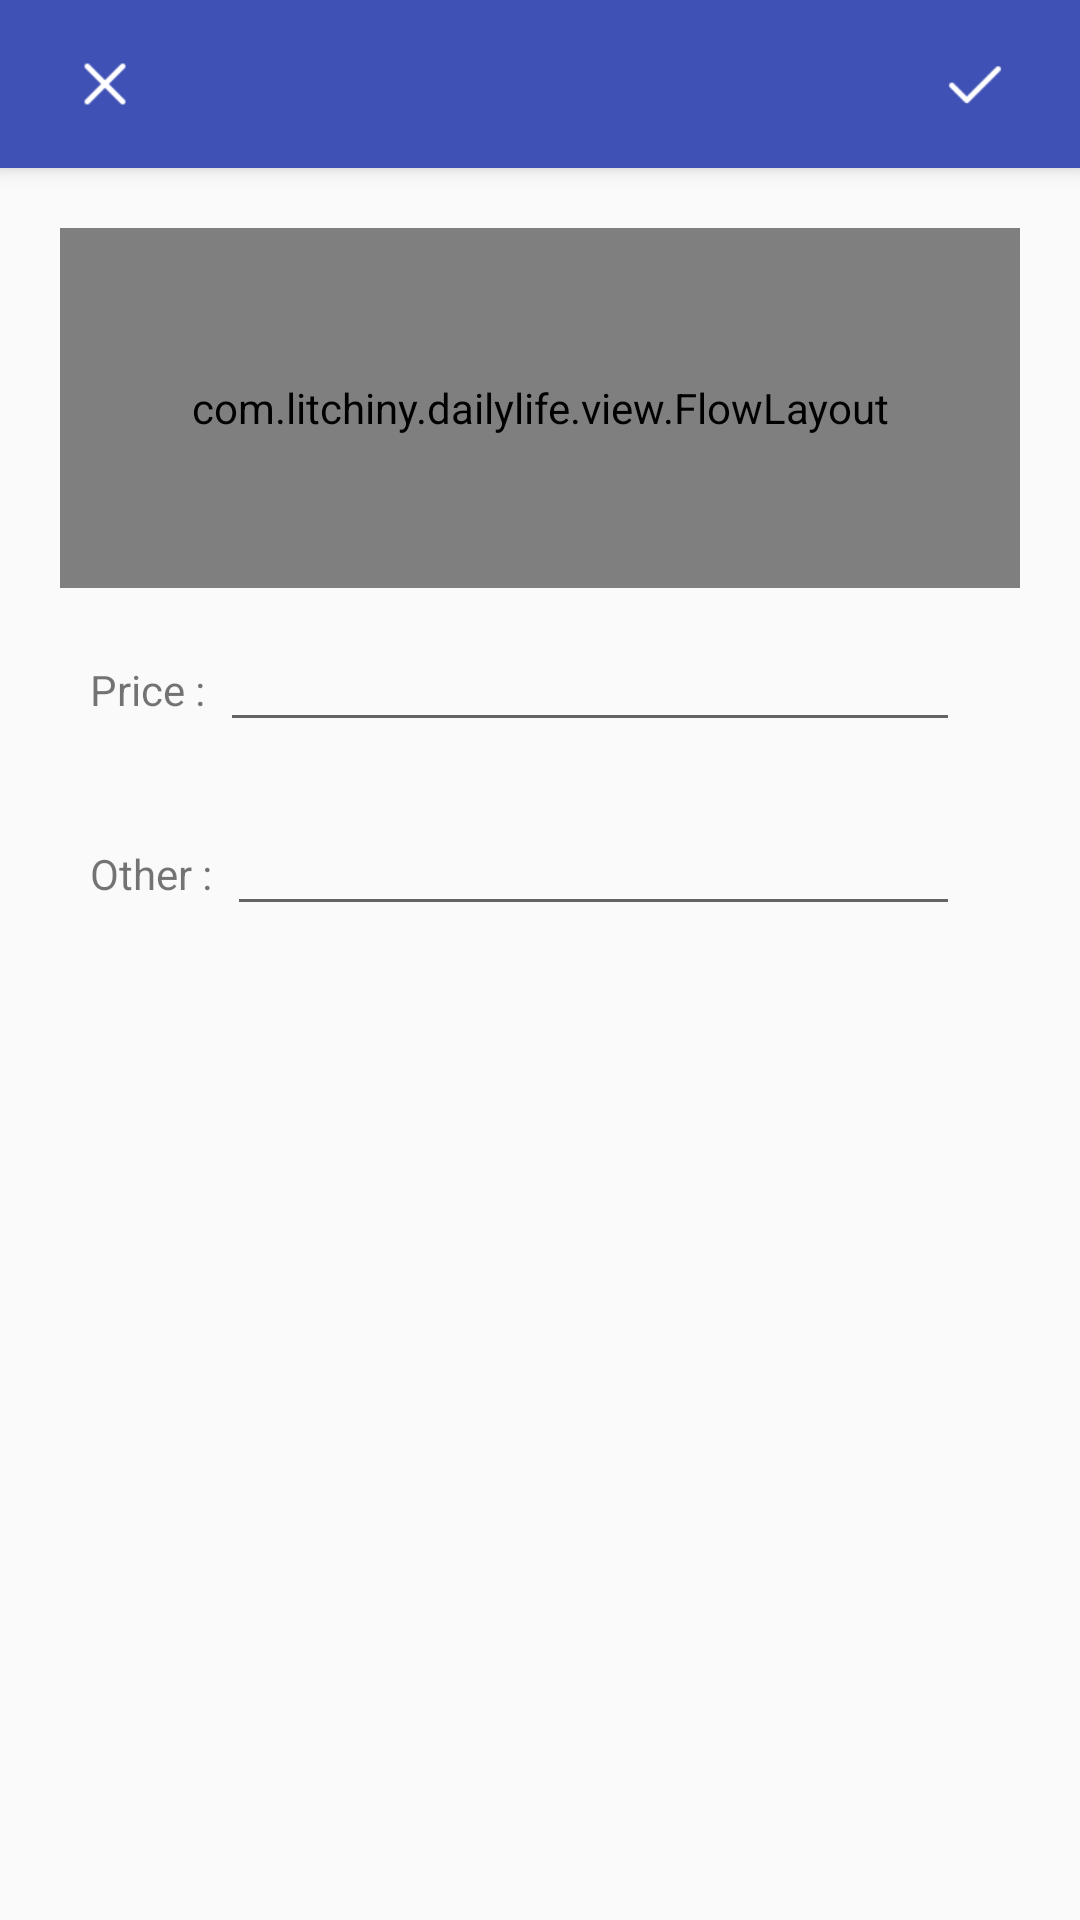

Icons on this 1080w x 1920h Android screen, each with the point to tap as [x,y]:
top bar close: [105,84]
